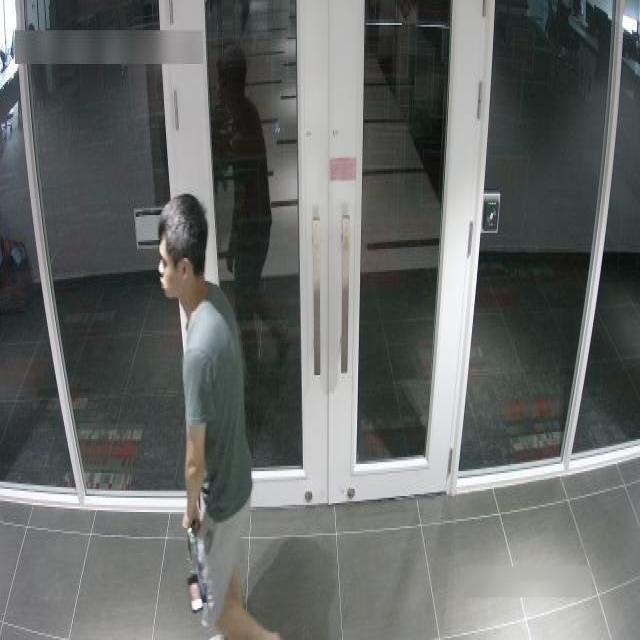bare_hand: (180, 494, 212, 548)
